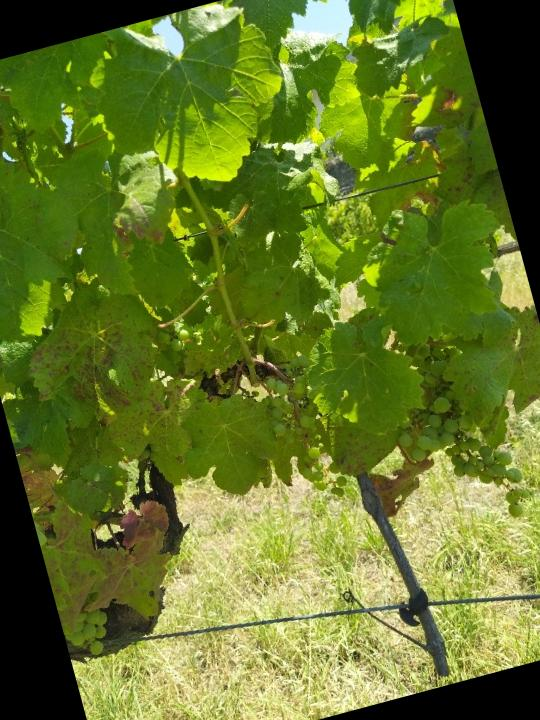grape: (372, 318, 539, 543)
